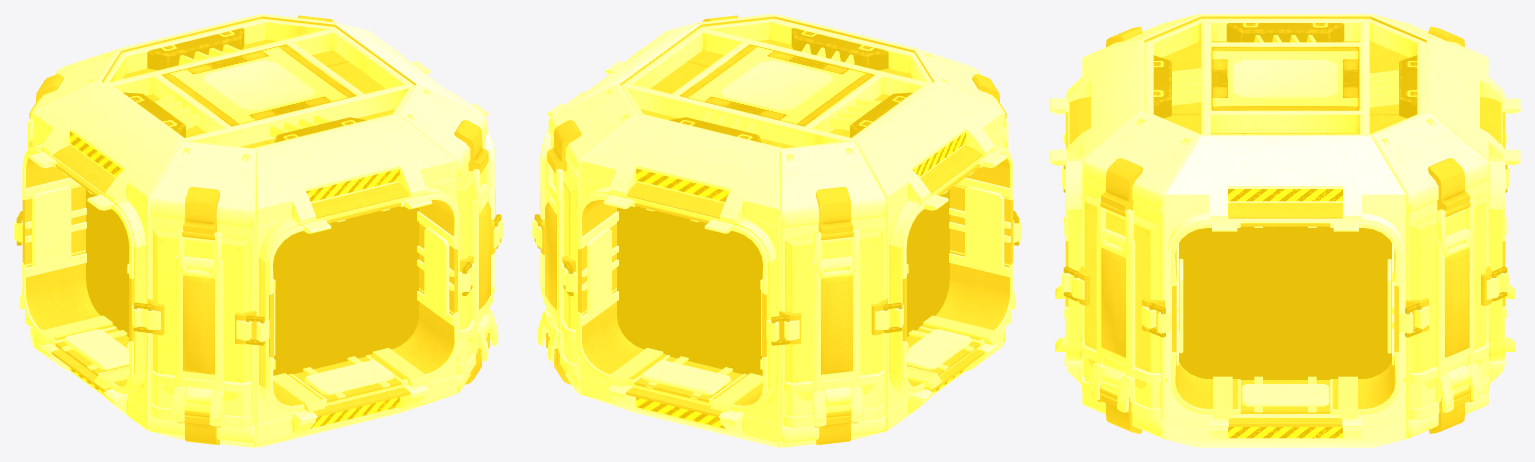
Rendered from smart-full.glb.
3 renders of one model, left to right at view 1: azimuth 30°, elevation 25°; view 2: azimuth 150°, elevation 25°; view 3: azimuth 270°, elevation 25°, orthographic. The views are drawn at different scales.
Parts seen in each view (by area): view 1: SM_SplitterSmart_01; view 2: SM_SplitterSmart_01; view 3: SM_SplitterSmart_01.
Part boxes in pixels (box(x1,y1,x2,y2)): SM_SplitterSmart_01: box(14, 14, 503, 447); SM_SplitterSmart_01: box(532, 14, 1021, 447); SM_SplitterSmart_01: box(1050, 14, 1520, 447).
Size of the model in its own units: 4.13 by 3.01 by 4.13.
Materials: 1 (1 with a texture image).
